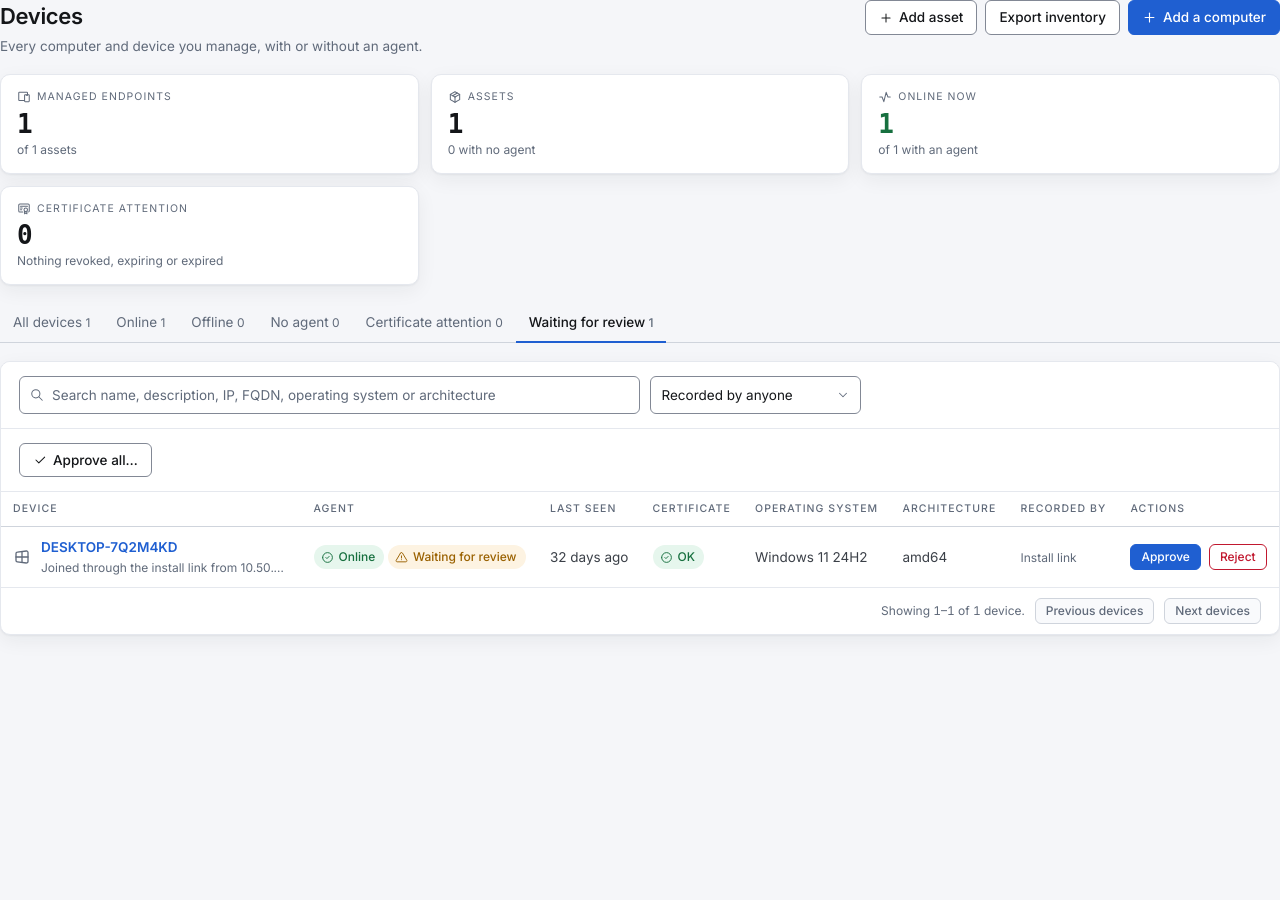
Test: Waiting for review › reject asks first, says what it does, and passes on a manual-removal notice
Click the button with aria-label "Reject DESKTOP-7Q2M4KD". click: (1238, 557)
box: x1=1209 y1=544 x2=1267 y2=570
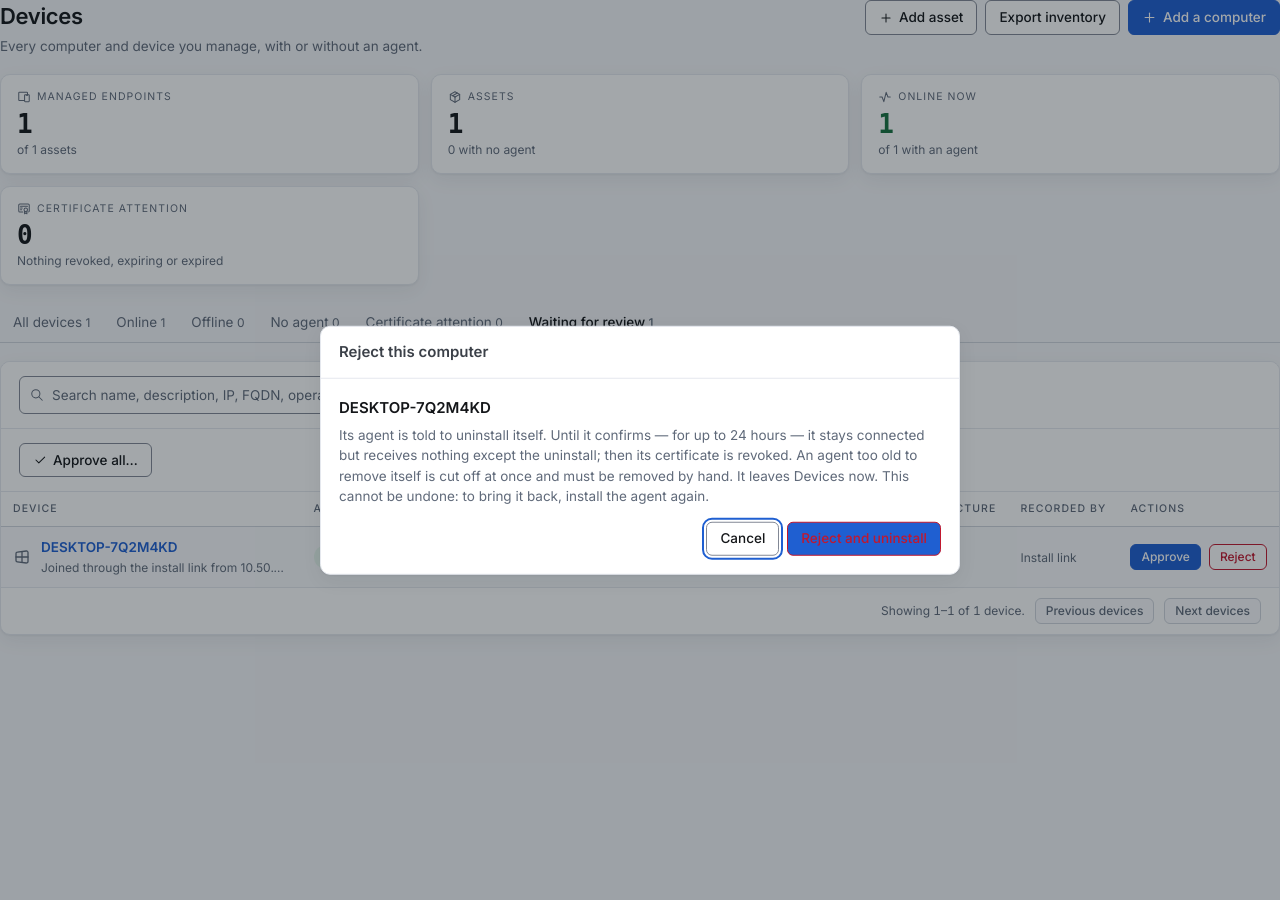
expect the dialog "Reject this computer" shows "DESKTOP-7Q2M4KD": met, box x1=339 y1=397 x2=491 y2=416
expect the dialog "Reject this computer" shows "uninstall itself": met, box x1=339 y1=427 x2=925 y2=504
expect the dialog "Reject this computer" shows "24 hours": met, box x1=339 y1=427 x2=925 y2=504
Click the button "Cancel". click: (743, 539)
box: x1=706 y1=522 x2=779 y2=555
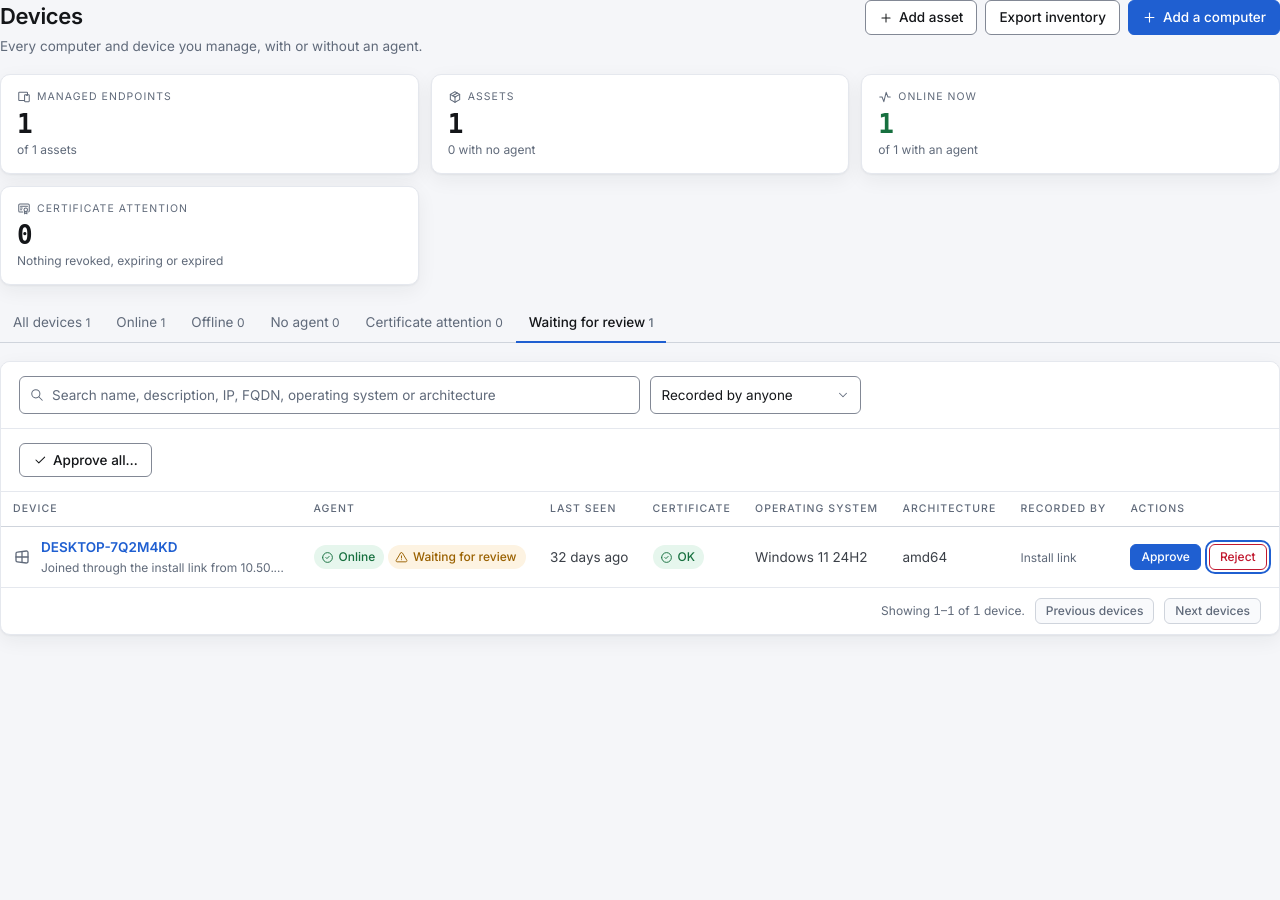
Click the button with aria-label "Reject DESKTOP-7Q2M4KD". click: (1238, 557)
box: x1=1209 y1=544 x2=1267 y2=570
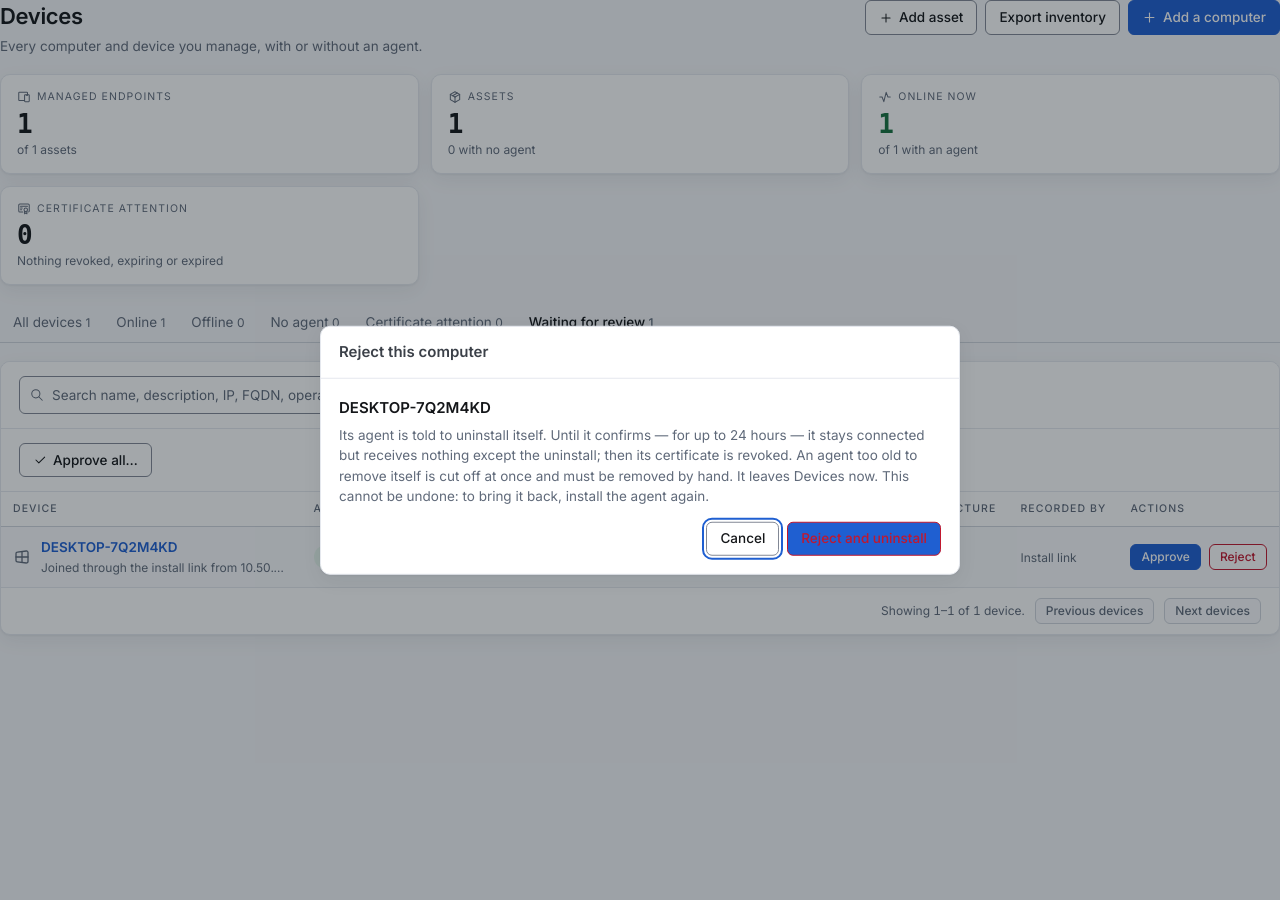
Click the button "Reject and uninstall". click: (864, 539)
box: x1=787 y1=522 x2=941 y2=555
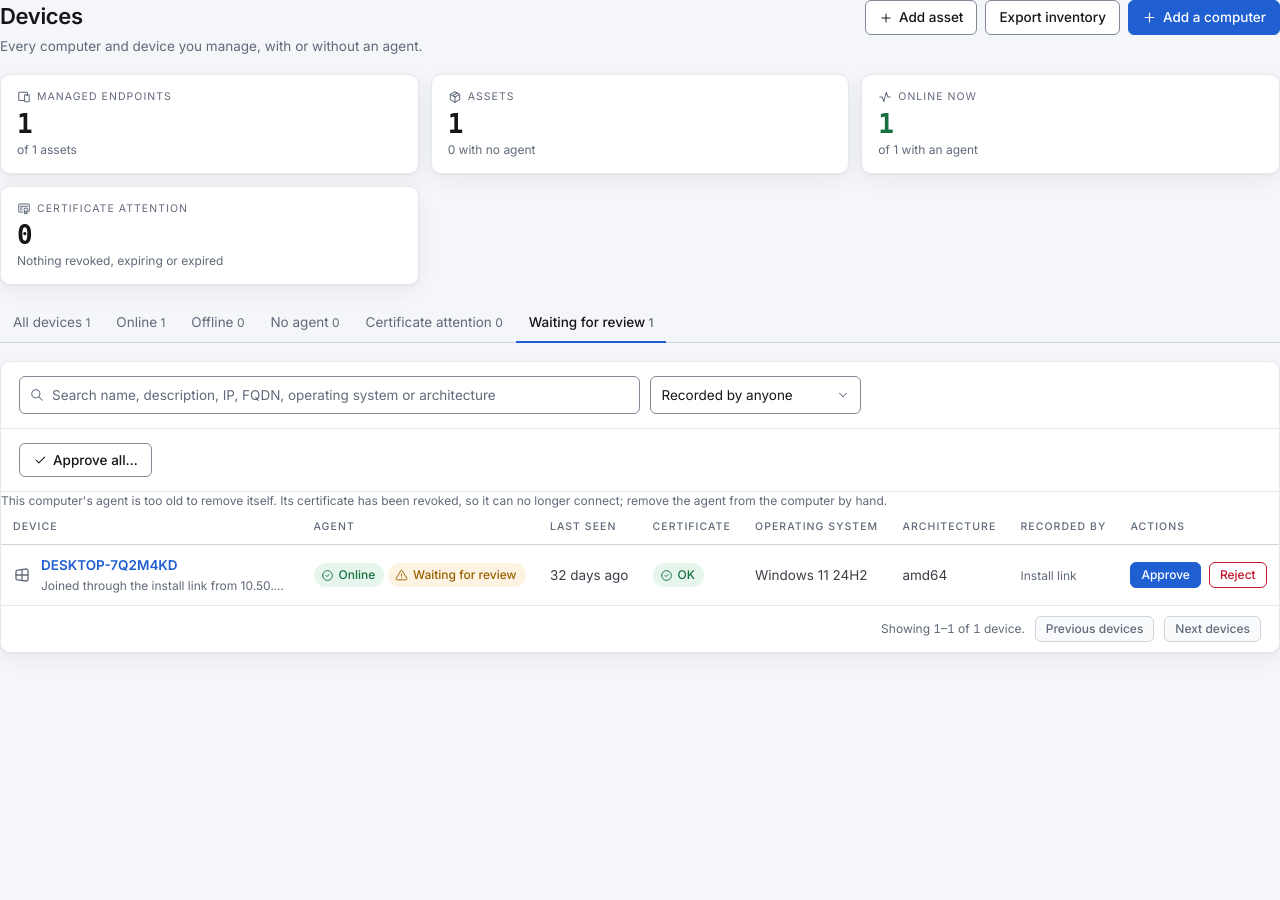
expect the message shows "remove the agent from the computer by hand": met, box x1=1 y1=493 x2=887 y2=508
